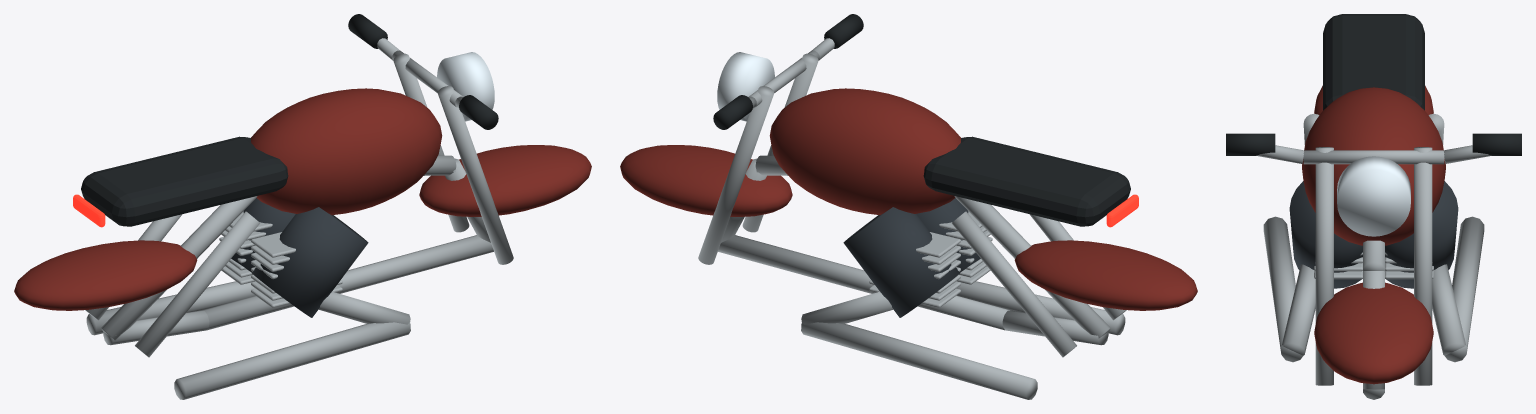
The model's file is SM_Motorcycle.fbx.
The picture shows the model from 3 angles, left to right: view 1: azimuth 30°, elevation 25°; view 2: azimuth 150°, elevation 25°; view 3: azimuth 270°, elevation 25°; orthographic projection. The views are drawn at different scales.
Visible parts, largest first — view 1: SM_Motorcycle; view 2: SM_Motorcycle; view 3: SM_Motorcycle.
Boxes of the visible parts, x1,y1,x2,y2 form: SM_Motorcycle: [14, 14, 591, 399]; SM_Motorcycle: [620, 14, 1197, 399]; SM_Motorcycle: [1226, 14, 1521, 399].
Bounding box in the file's own units: 208 × 84 × 81.7.
